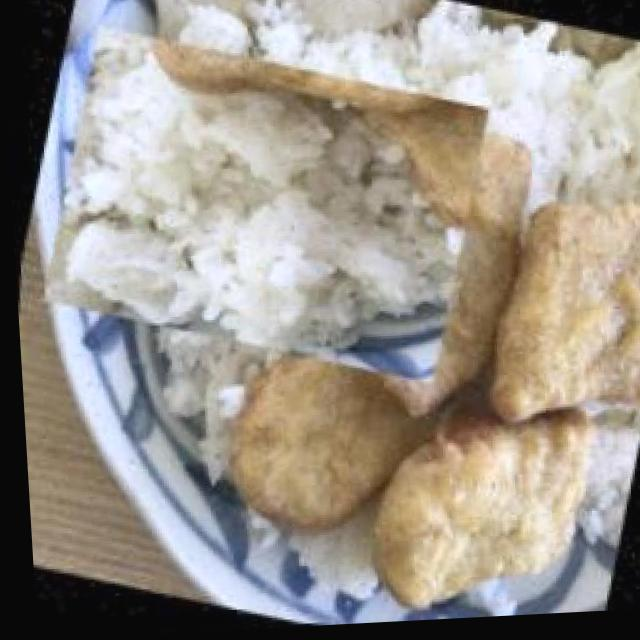chicken_nuggets: (176, 54, 640, 633)
rice: (40, 0, 485, 428)
